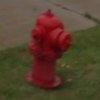Hydrant: (22, 7, 81, 87)
